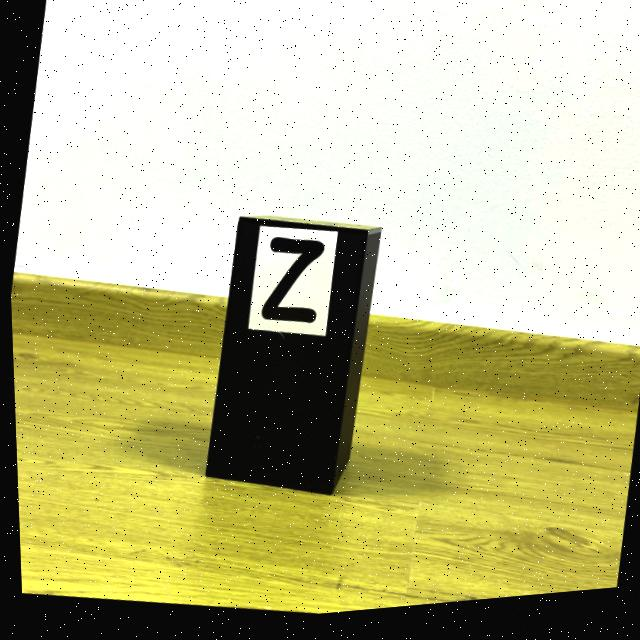Z: (259, 242, 322, 328)
